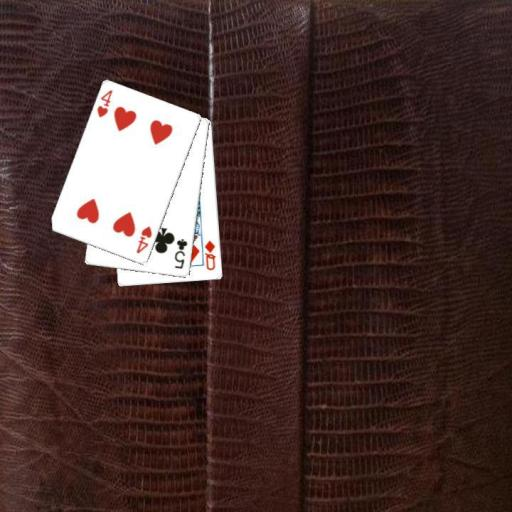4H: (133, 224, 154, 256), (94, 87, 114, 119)
5C: (172, 236, 190, 271)
QD: (201, 238, 218, 272)
